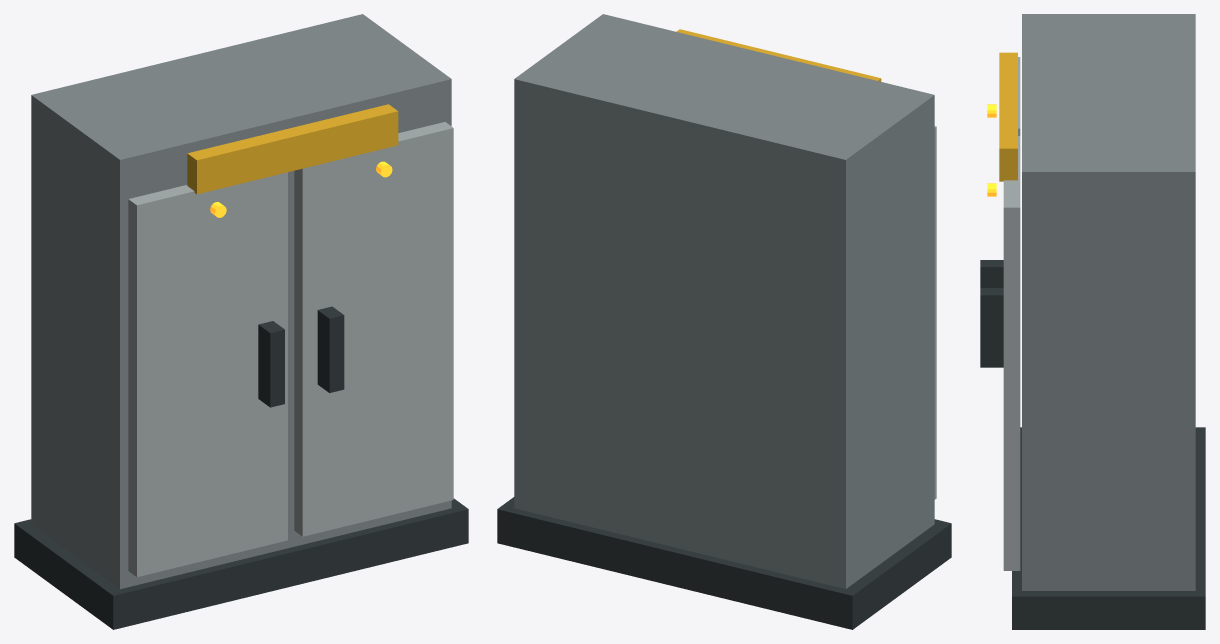
The model's file is locker_wall.glb.
3 renders of one model, left to right at view 1: azimuth 30°, elevation 25°; view 2: azimuth 150°, elevation 25°; view 3: azimuth 270°, elevation 25°, orthographic. The views are drawn at different scales.
Parts seen in each view (by area): view 1: locker_wall_housing, locker_wall_door_0, locker_wall_door_1, locker_wall_mount_rail, locker_wall_top_label, locker_wall_handle_1, locker_wall_handle_0; view 2: locker_wall_housing, locker_wall_mount_rail, locker_wall_door_0, locker_wall_top_label; view 3: locker_wall_housing, locker_wall_mount_rail, locker_wall_door_1, locker_wall_top_label, locker_wall_handle_1, locker_wall_handle_0.
Boxes of the visible parts, <box> form: locker_wall_housing: <box>31,14,451,589</box>; locker_wall_door_0: <box>128,172,287,576</box>; locker_wall_door_1: <box>294,122,453,536</box>; locker_wall_mount_rail: <box>14,498,468,629</box>; locker_wall_top_label: <box>187,104,398,194</box>; locker_wall_handle_1: <box>317,306,344,392</box>; locker_wall_handle_0: <box>258,321,284,407</box>; locker_wall_housing: <box>514,14,934,589</box>; locker_wall_mount_rail: <box>497,497,951,629</box>; locker_wall_door_0: <box>934,126,936,499</box>; locker_wall_top_label: <box>676,29,881,81</box>; locker_wall_housing: <box>1022,14,1195,590</box>; locker_wall_mount_rail: <box>1012,427,1205,629</box>; locker_wall_door_1: <box>1003,136,1020,570</box>; locker_wall_top_label: <box>999,52,1017,181</box>; locker_wall_handle_1: <box>980,288,1003,367</box>; locker_wall_handle_0: <box>980,260,1003,287</box>.
Size of the model in its own units: 0.6 by 0.7475 by 0.3375.
